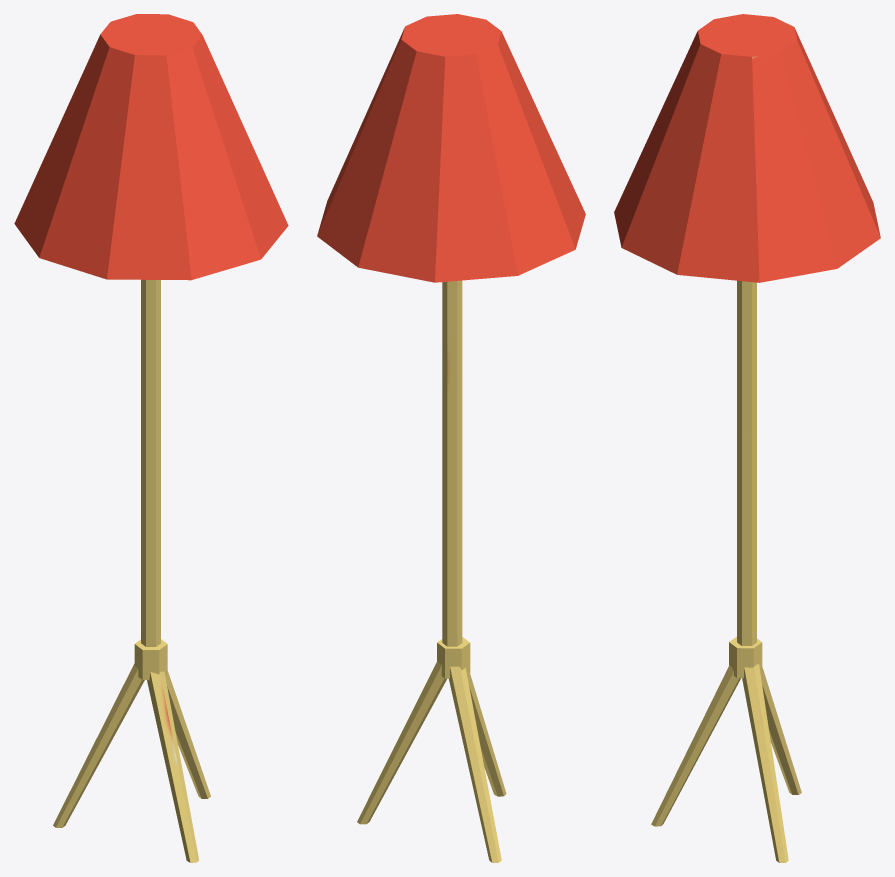
Rendered from lamp_standing.obj.
3 views of the same model, side by side, from view 1: azimuth 30°, elevation 25°; view 2: azimuth 150°, elevation 25°; view 3: azimuth 270°, elevation 25° (orthographic).
Visible parts, largest first — view 1: lamp_standing_Cylinder.001; view 2: lamp_standing_Cylinder.001; view 3: lamp_standing_Cylinder.001.
Part boxes in pixels (box(x1,y1,x2,y2)): lamp_standing_Cylinder.001: box(14, 14, 288, 862); lamp_standing_Cylinder.001: box(317, 14, 585, 862); lamp_standing_Cylinder.001: box(614, 14, 880, 862).
Size of the model in its own units: 1.64 by 5.24 by 1.6.
